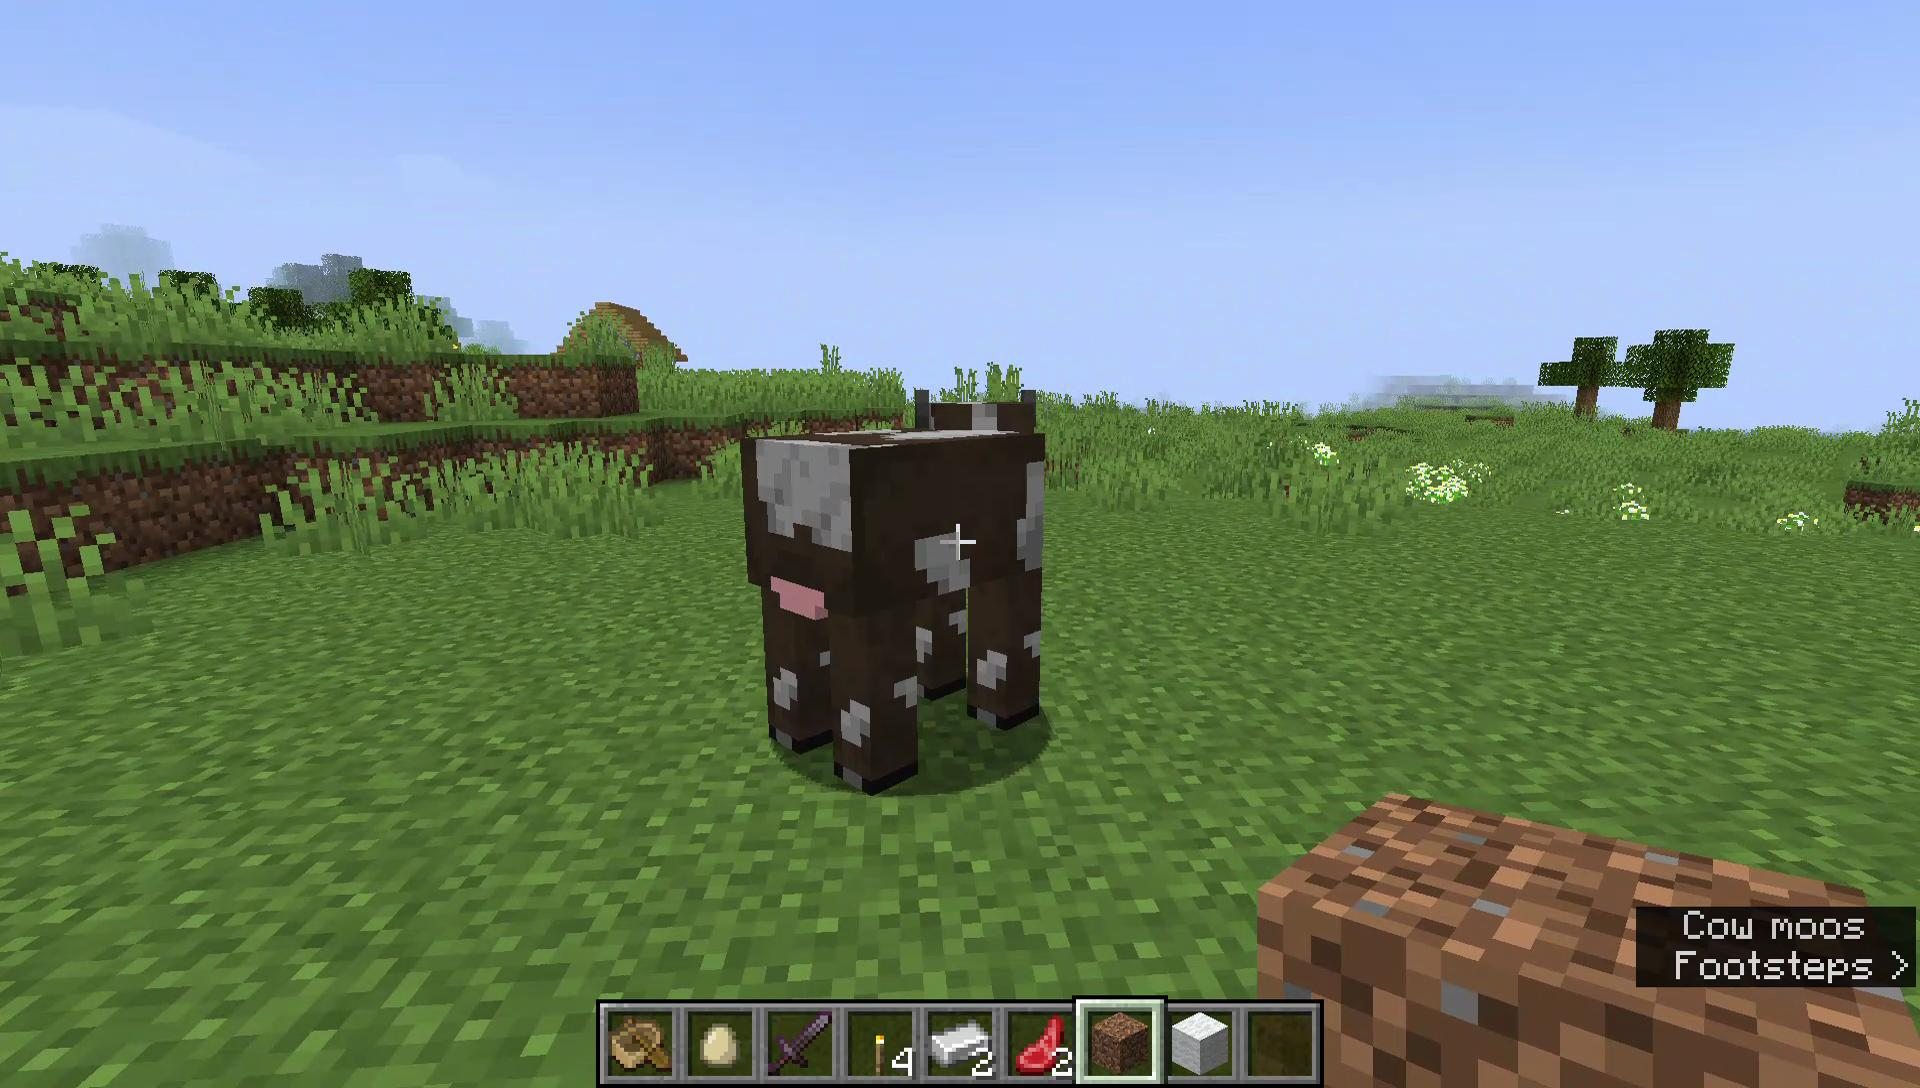cow: (733, 382, 1052, 801)
